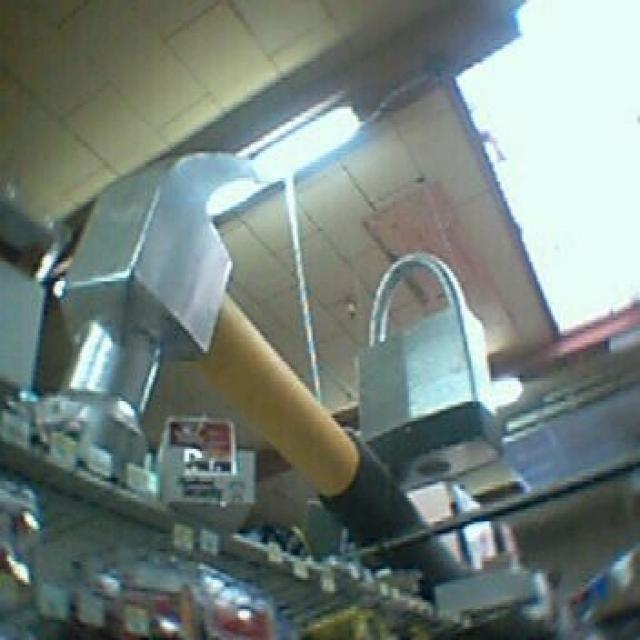hammer: (44, 120, 486, 614)
